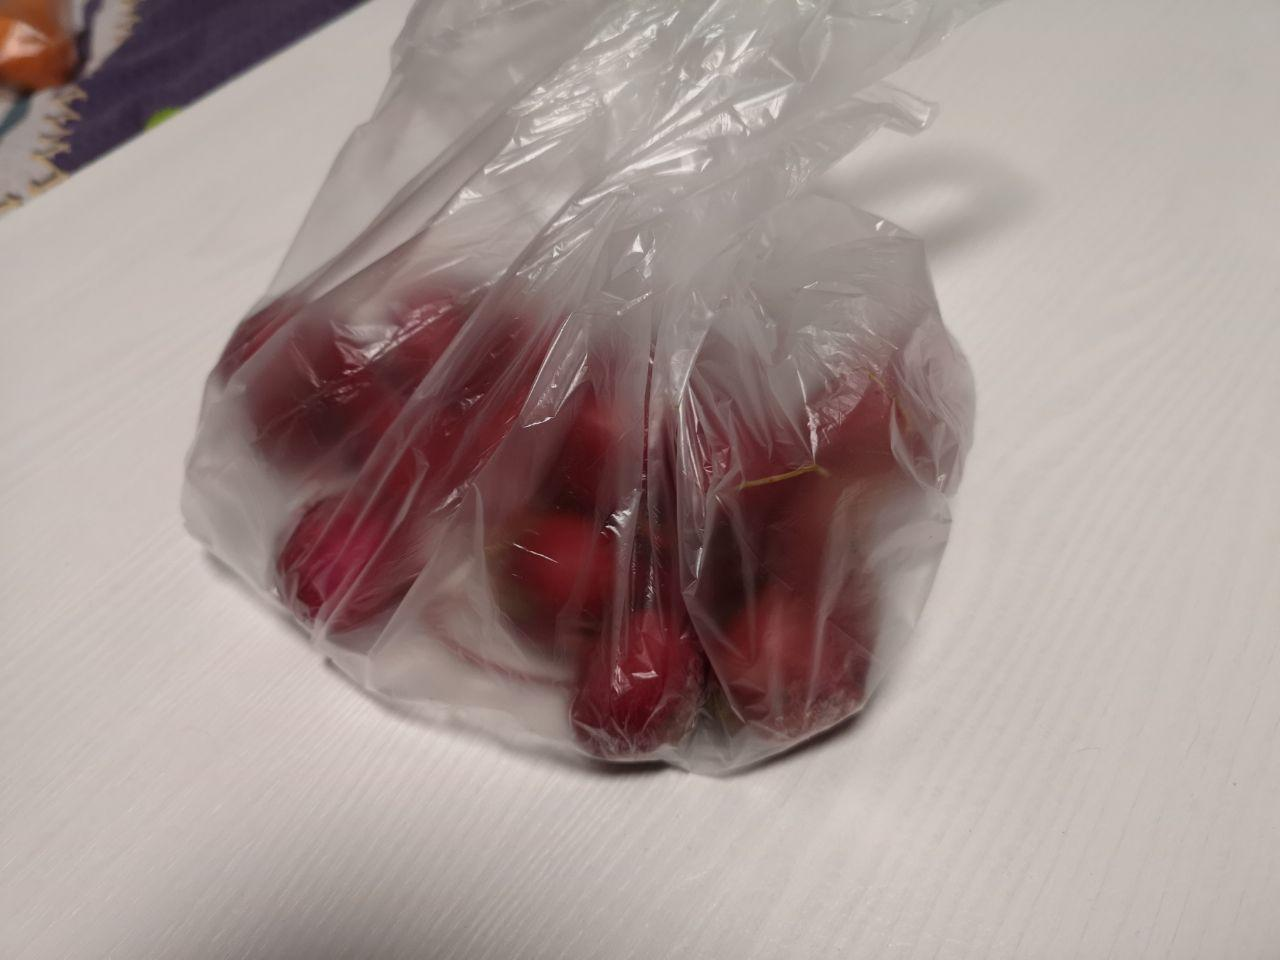redish: (200, 204, 1017, 819)
